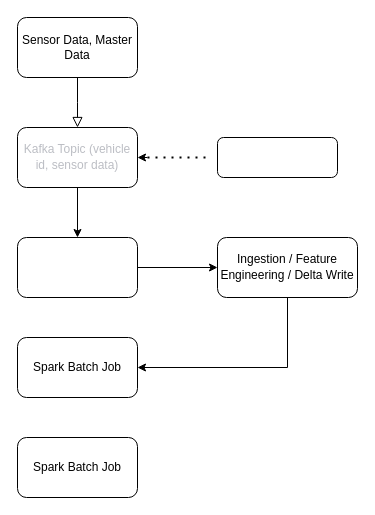
The diagram is 375 pixels wide and 515 high, and some of its shapes have lost their labels. The shapes that lost their labels are listed below. From the top down, each one's centre as x and y in pixels, then its label:
At pixel 277 157: "vehicle events".
At pixel 77 267: "Spark Streaming".
